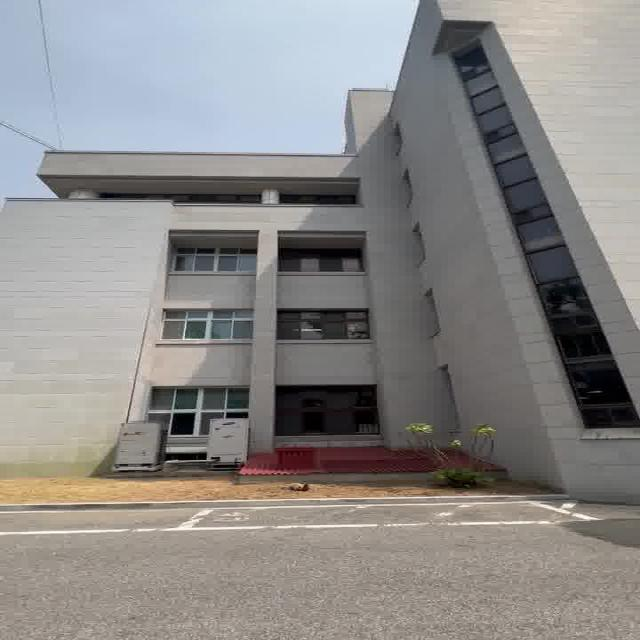building: (21, 9, 640, 501)
